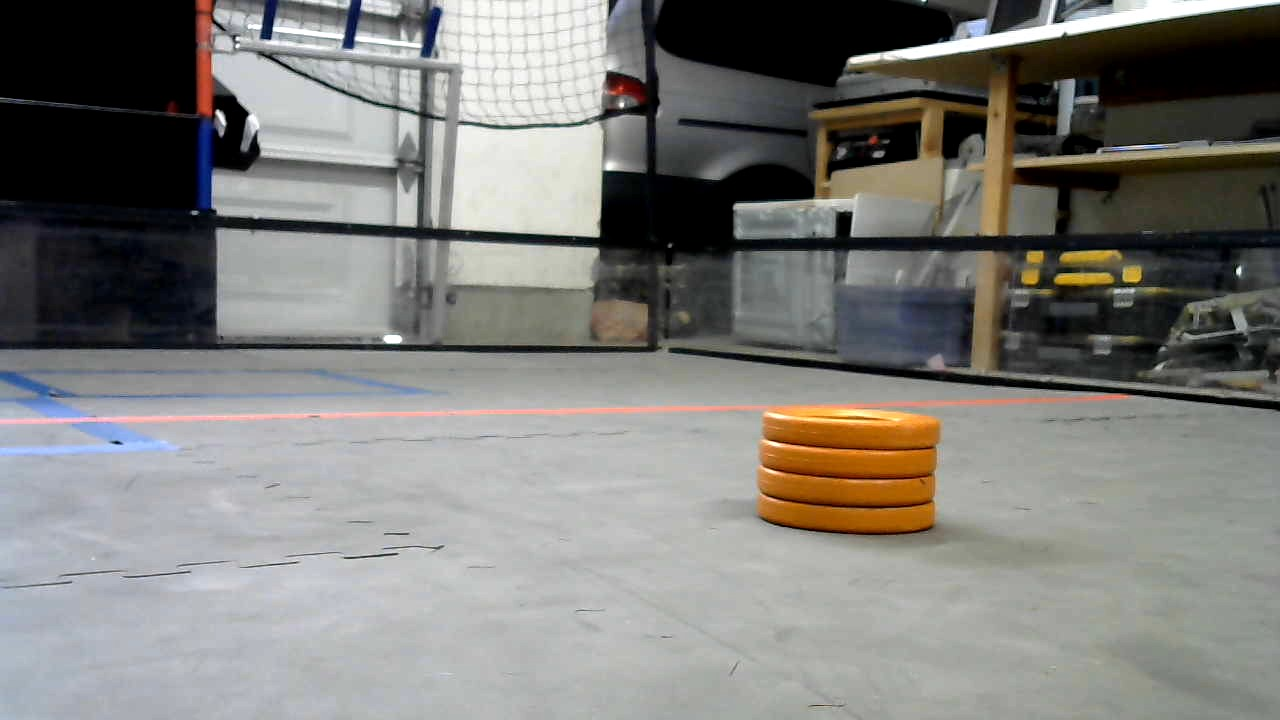FourStack: (757, 404, 940, 533)
